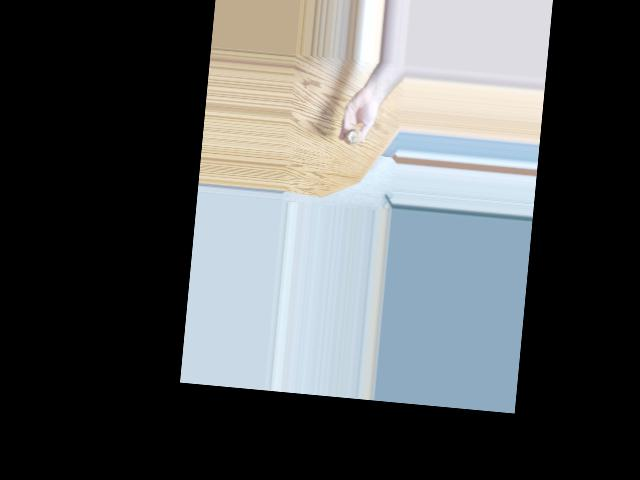sweet_potato: (345, 127, 364, 150)
